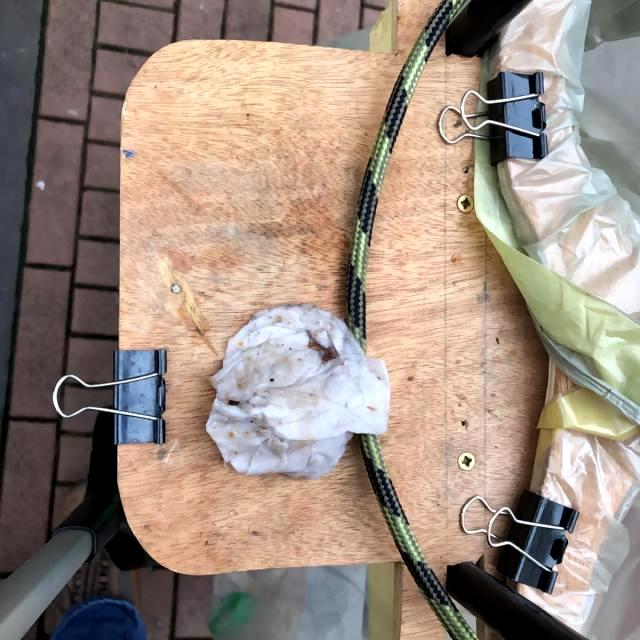Paper: (204, 304, 392, 482)
